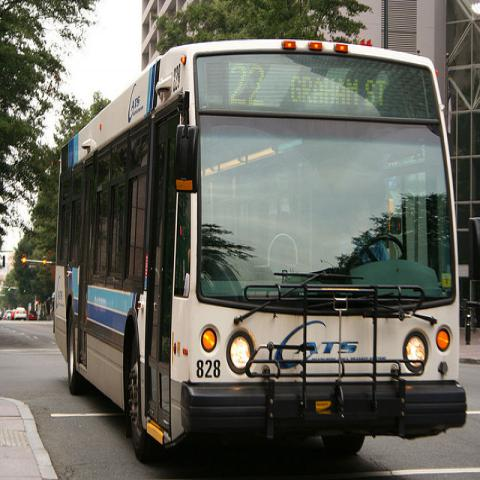bus: (53, 38, 467, 462)
car: (14, 307, 27, 320), (28, 310, 38, 321), (4, 310, 14, 320), (0, 311, 4, 320)
